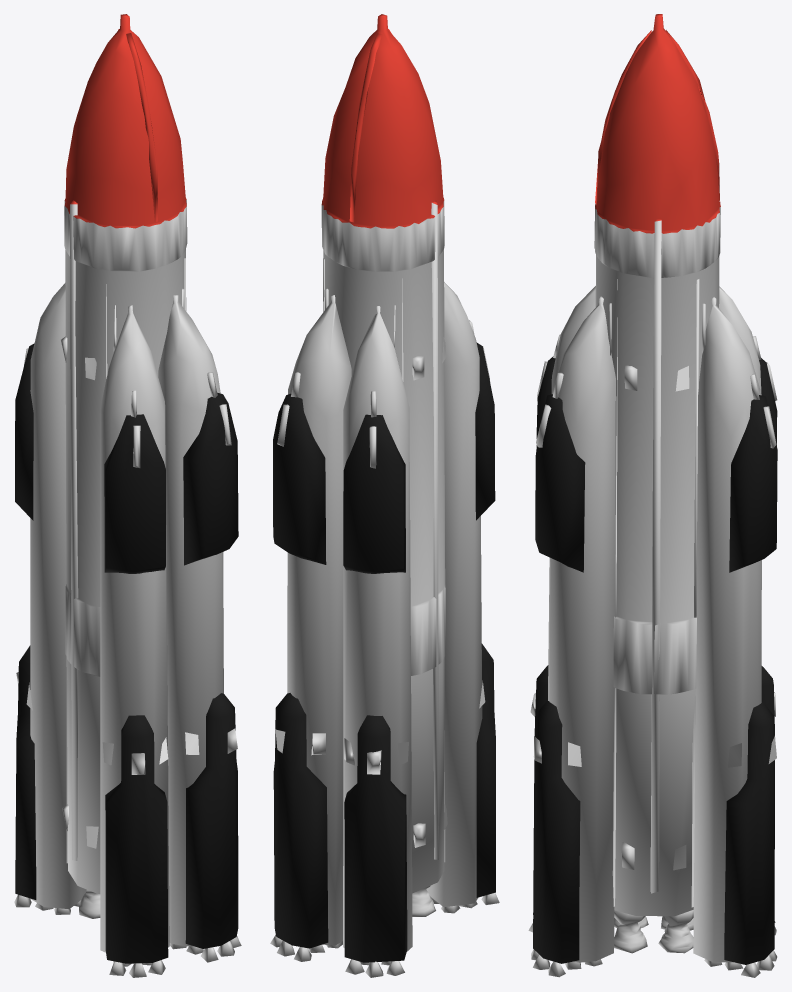
Rendered from ROCKET.fbx.
3 views of the same model, side by side, from view 1: azimuth 30°, elevation 25°; view 2: azimuth 150°, elevation 25°; view 3: azimuth 270°, elevation 25° (orthographic). The views are drawn at different scales.
Visible parts, largest first — view 1: 17257_Booster_rocket_for_space_shuttle_v1_NEW; view 2: 17257_Booster_rocket_for_space_shuttle_v1_NEW; view 3: 17257_Booster_rocket_for_space_shuttle_v1_NEW.
Part boxes in pixels (x1,y1,x2,y2): 17257_Booster_rocket_for_space_shuttle_v1_NEW: [14, 14, 241, 977]; 17257_Booster_rocket_for_space_shuttle_v1_NEW: [270, 14, 499, 977]; 17257_Booster_rocket_for_space_shuttle_v1_NEW: [528, 14, 777, 977].
Size of the model in its own units: 6859 by 44997 by 10926.
